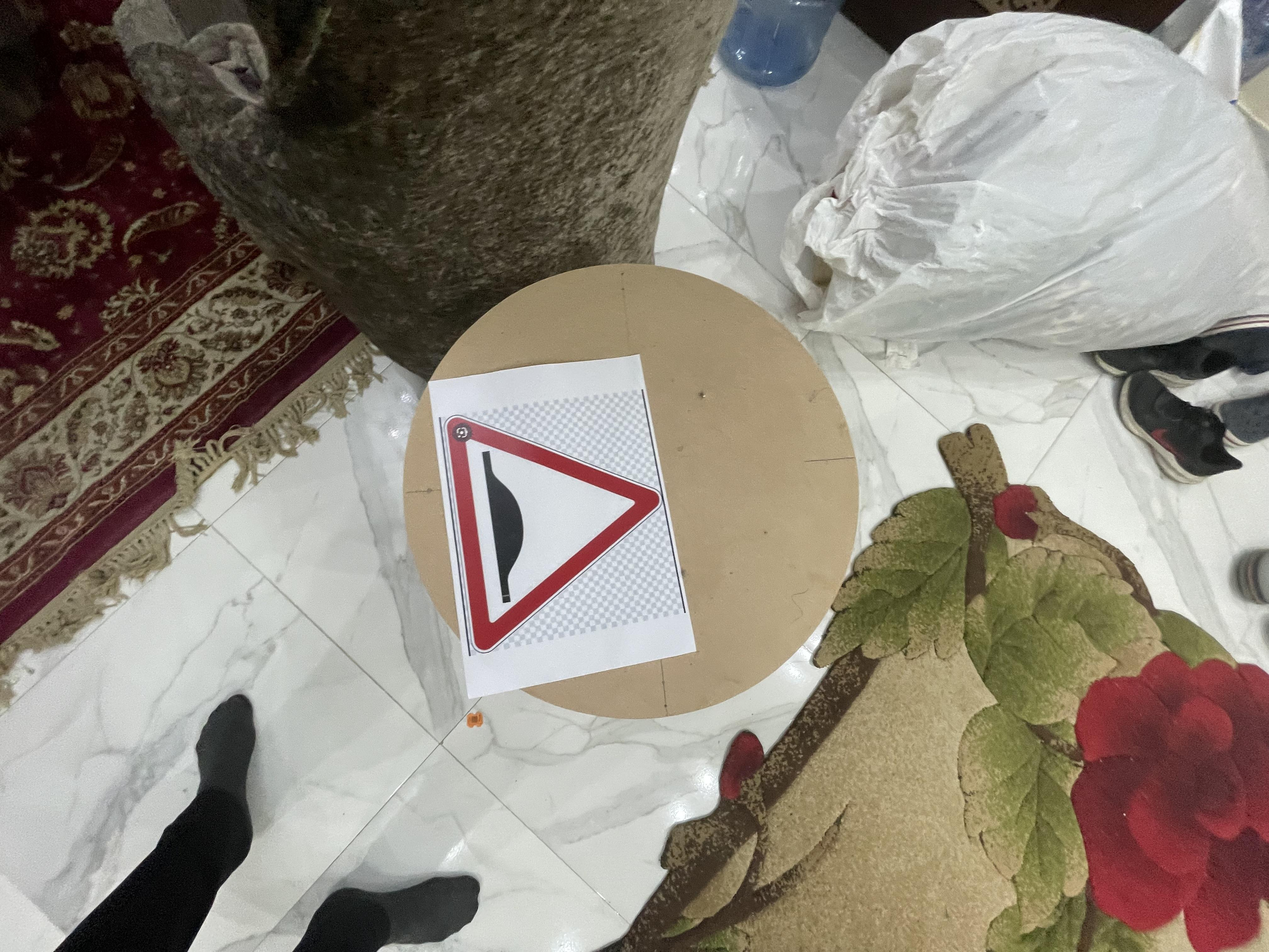Hump: (405, 326, 735, 506)
